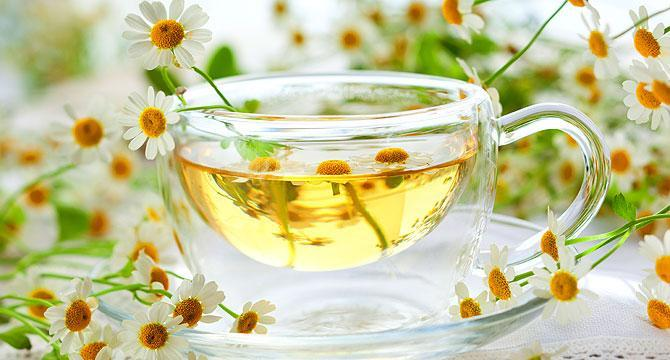chamomile: (241, 118, 421, 190), (111, 17, 232, 77), (41, 102, 121, 171), (101, 308, 212, 356), (156, 280, 241, 341), (34, 278, 97, 360), (533, 250, 604, 319), (126, 88, 191, 162), (563, 22, 636, 81), (611, 7, 670, 75), (431, 265, 497, 325), (427, 5, 521, 42), (531, 210, 592, 265), (482, 245, 532, 308), (614, 82, 670, 132), (214, 297, 287, 335), (122, 262, 174, 308), (631, 280, 670, 336), (637, 238, 670, 288)
